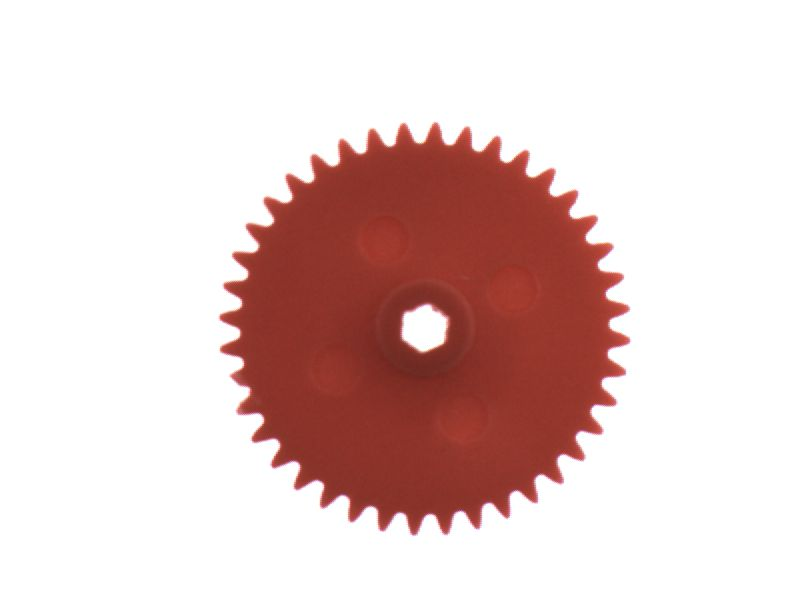defect_break: (214, 356, 256, 398)
